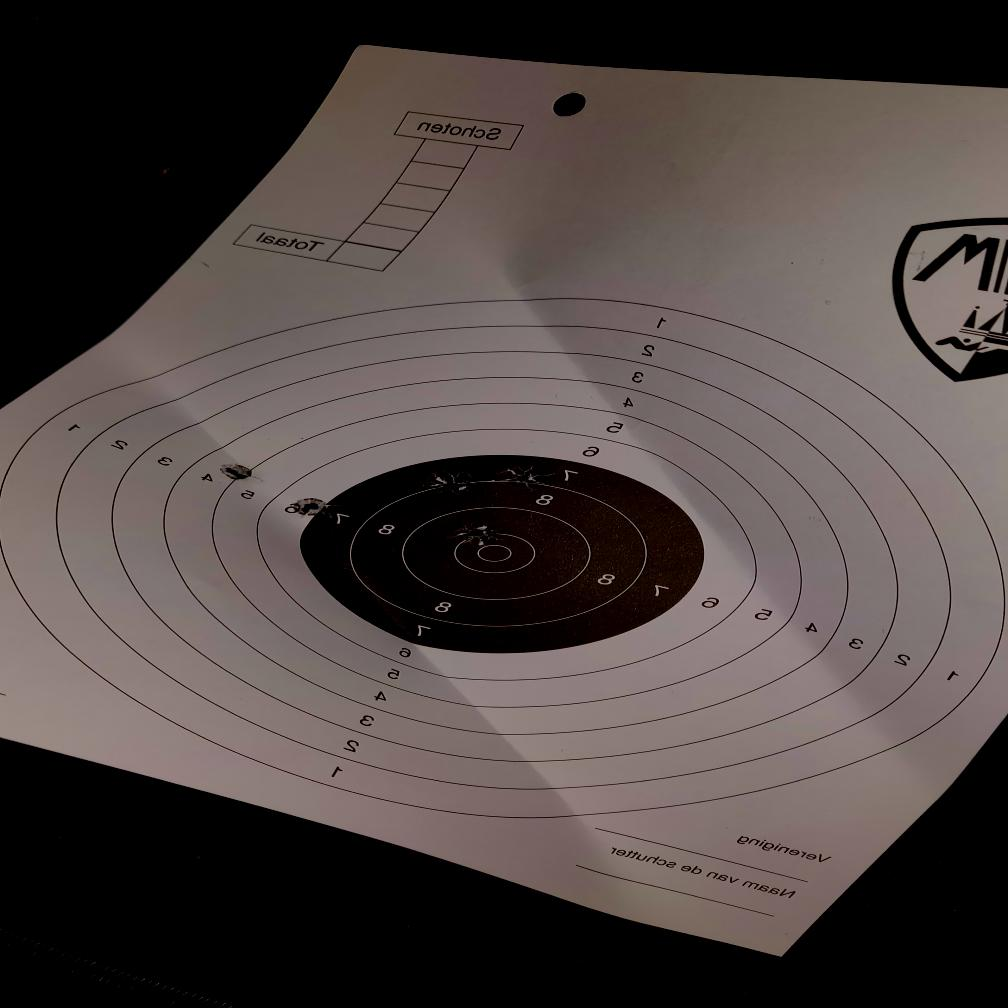10: (447, 523, 503, 546)
5: (219, 464, 264, 482)
7: (292, 497, 340, 518)
8: (493, 465, 559, 488), (422, 469, 477, 495)
Target: (0, 294, 1006, 824)
black_contour: (297, 452, 705, 653)
